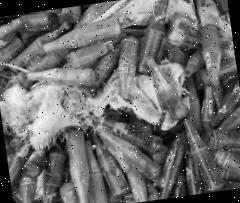glass: (0, 0, 240, 142), (153, 116, 228, 198)
